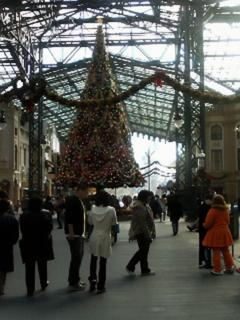cat: (199, 194, 233, 275)
person: (20, 195, 55, 297), (88, 193, 119, 294), (65, 185, 90, 293), (127, 190, 158, 277), (1, 198, 19, 295), (167, 196, 185, 236), (53, 195, 65, 230), (157, 195, 168, 223), (43, 196, 56, 214)
